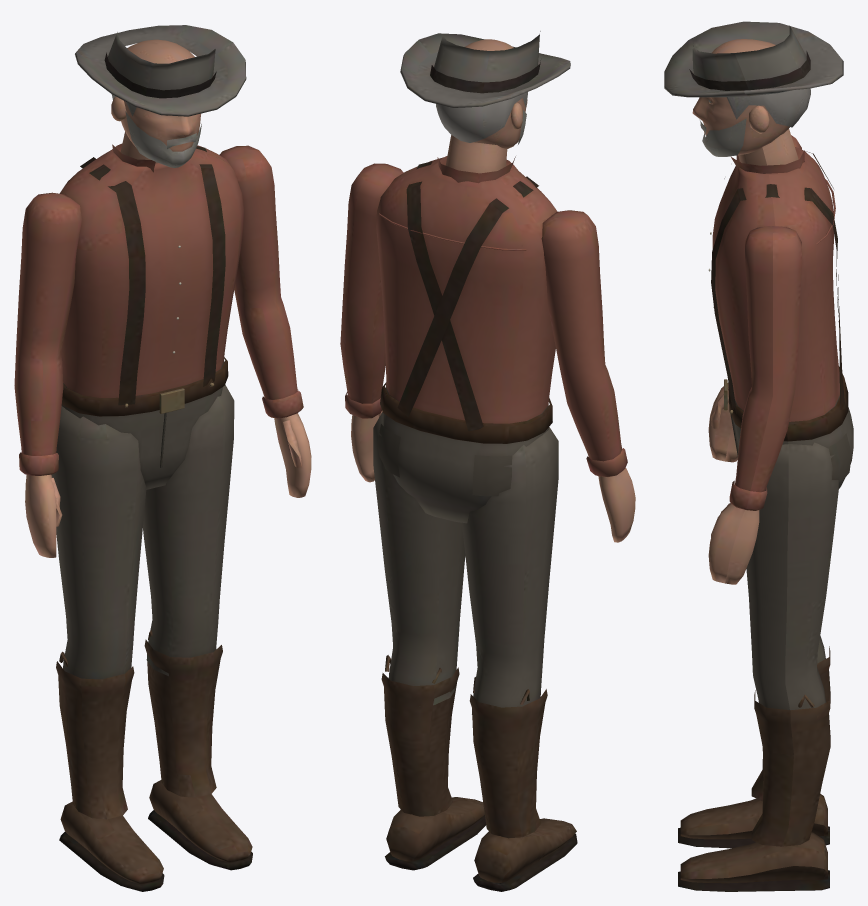
The model's file is b_person_c.glb.
3 renders of one model, left to right at view 1: azimuth 30°, elevation 25°; view 2: azimuth 150°, elevation 25°; view 3: azimuth 270°, elevation 25°, orthographic.
Visible parts, largest first — view 1: body, legR, legL, armR, armL; view 2: body, legR, legL, armR, armL; view 3: body, legL, armL, legR, armR.
Part boxes in pixels (box(x1,y1,x2,y2)): body: box(60, 25, 246, 489); legR: box(51, 406, 164, 891); legL: box(143, 384, 252, 870); armR: box(14, 192, 81, 557); armL: box(219, 145, 311, 497); body: box(376, 31, 570, 523); legR: box(462, 427, 577, 891); legL: box(373, 412, 485, 870); armR: box(541, 210, 635, 542); armL: box(340, 163, 403, 482); body: box(664, 21, 853, 489); legL: box(678, 442, 838, 891); armL: box(708, 226, 801, 584); legR: box(678, 636, 830, 848); armR: box(708, 135, 801, 462).
Bounding box in the file's own units: 0.6045 × 1.71 × 0.3527.
Materials: 1 (1 with a texture image).
